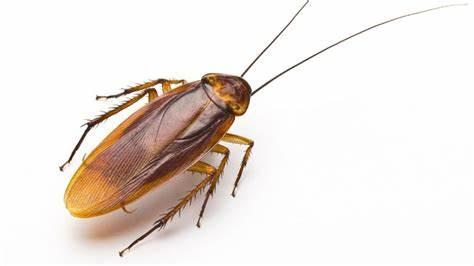cockroach: (63, 70, 254, 220)
